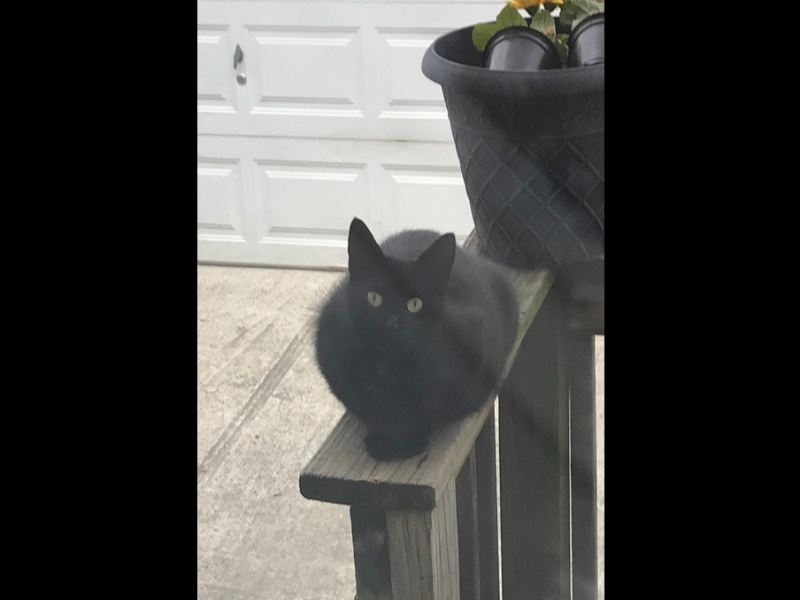cat: (303, 218, 529, 469)
